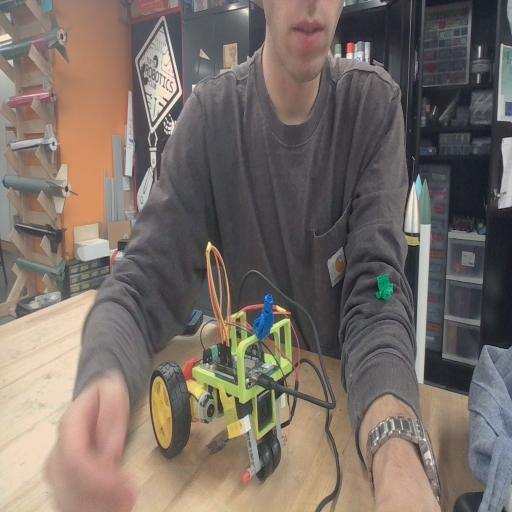blue LEGO minifig: (250, 291, 276, 342)
green LEGO minifig: (374, 269, 396, 305)
